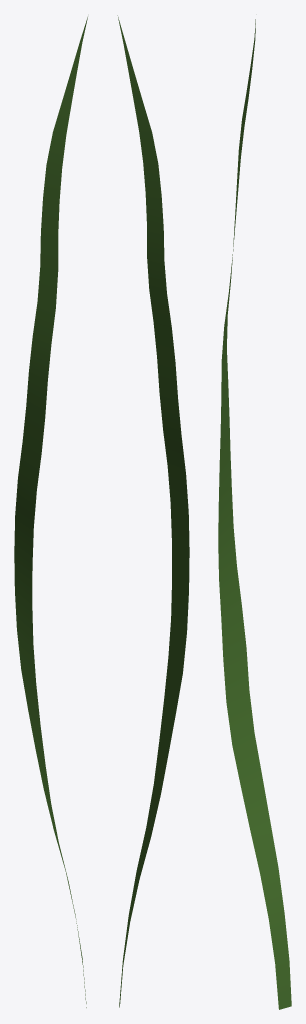
Rendered from plant_swamp_kelp_giant_C_solo_C.fbx.
The picture shows the model from 3 angles, left to right: view 1: azimuth 30°, elevation 25°; view 2: azimuth 210°, elevation 25°; view 3: azimuth 330°, elevation 25°; orthographic projection. The views are drawn at different scales.
Parts seen in each view (by area): view 1: plant_swamp_kelp_giant_C_solo_C; view 2: plant_swamp_kelp_giant_C_solo_C; view 3: plant_swamp_kelp_giant_C_solo_C.
Boxes of the visible parts, box(x1,y1,x2,y2) form: plant_swamp_kelp_giant_C_solo_C: box(14, 17, 87, 1007); plant_swamp_kelp_giant_C_solo_C: box(117, 15, 189, 1007); plant_swamp_kelp_giant_C_solo_C: box(218, 19, 291, 1009).
Size of the model in its own units: 32.34 by 474 by 24.62.
